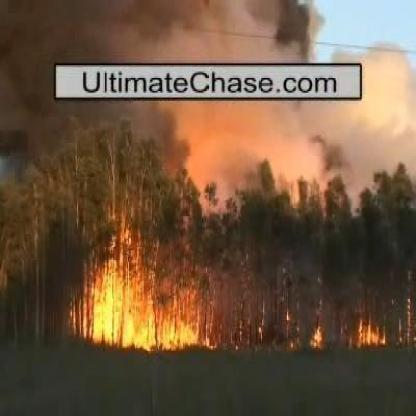-: (62, 0, 312, 62), (162, 102, 348, 166)
foggia-v2-map80-epoch100 - v1 4323: (95, 260, 147, 341)
